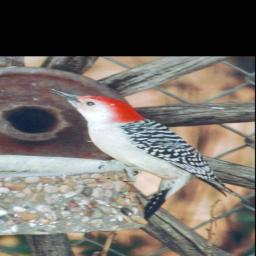Woodpecker: (42, 89, 252, 224)
